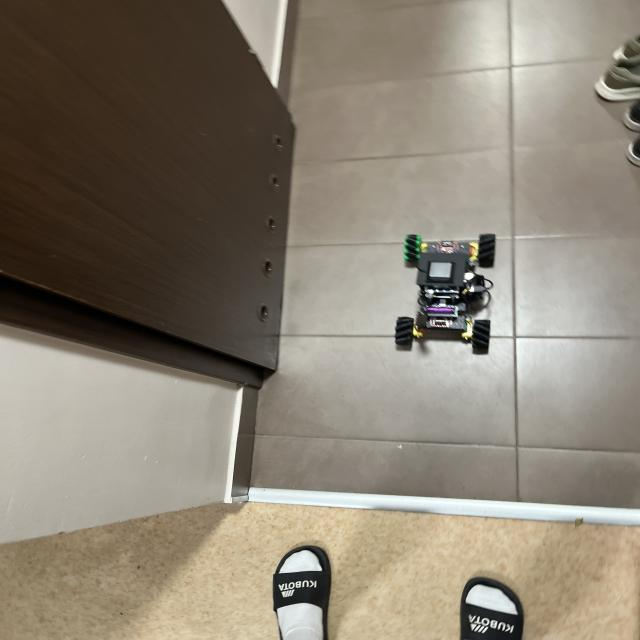robot: (396, 234, 495, 354)
